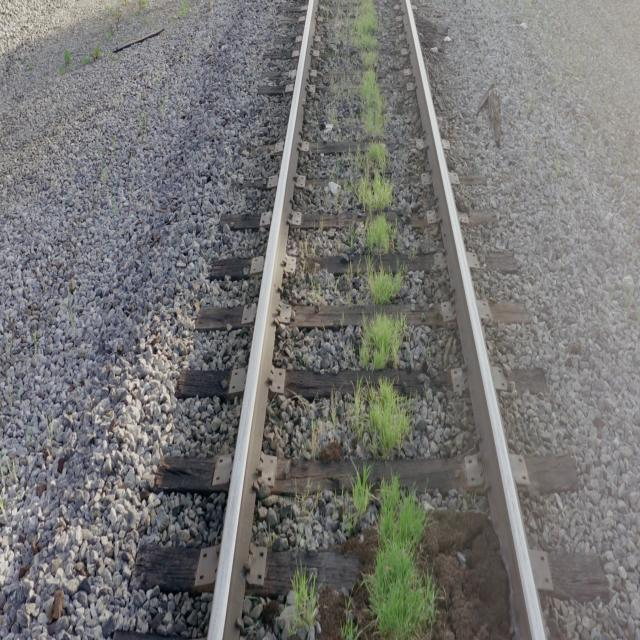Plant: (364, 478, 436, 638), (354, 0, 394, 249), (351, 378, 410, 460), (360, 313, 406, 371), (292, 569, 319, 638), (291, 562, 318, 629), (368, 267, 402, 304), (352, 467, 370, 516), (341, 602, 359, 638)
